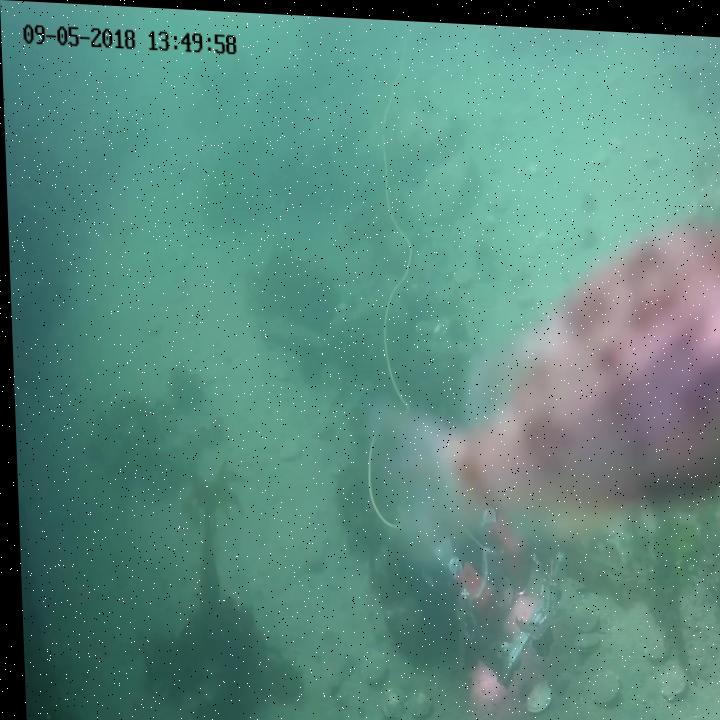scallop: (582, 658, 618, 700), (654, 653, 682, 694), (373, 681, 400, 718), (520, 673, 548, 708), (638, 626, 667, 658), (568, 595, 595, 624), (403, 685, 428, 714), (569, 623, 596, 645), (451, 262, 471, 285), (717, 654, 720, 695)
